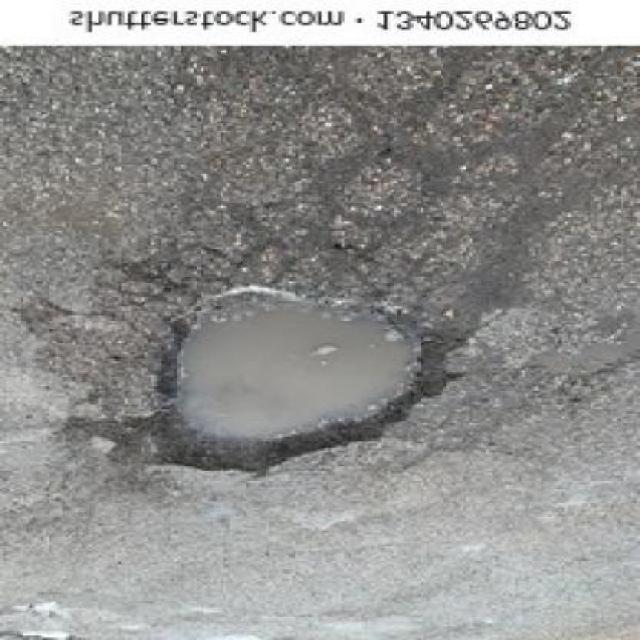pothole: (92, 260, 486, 494)
